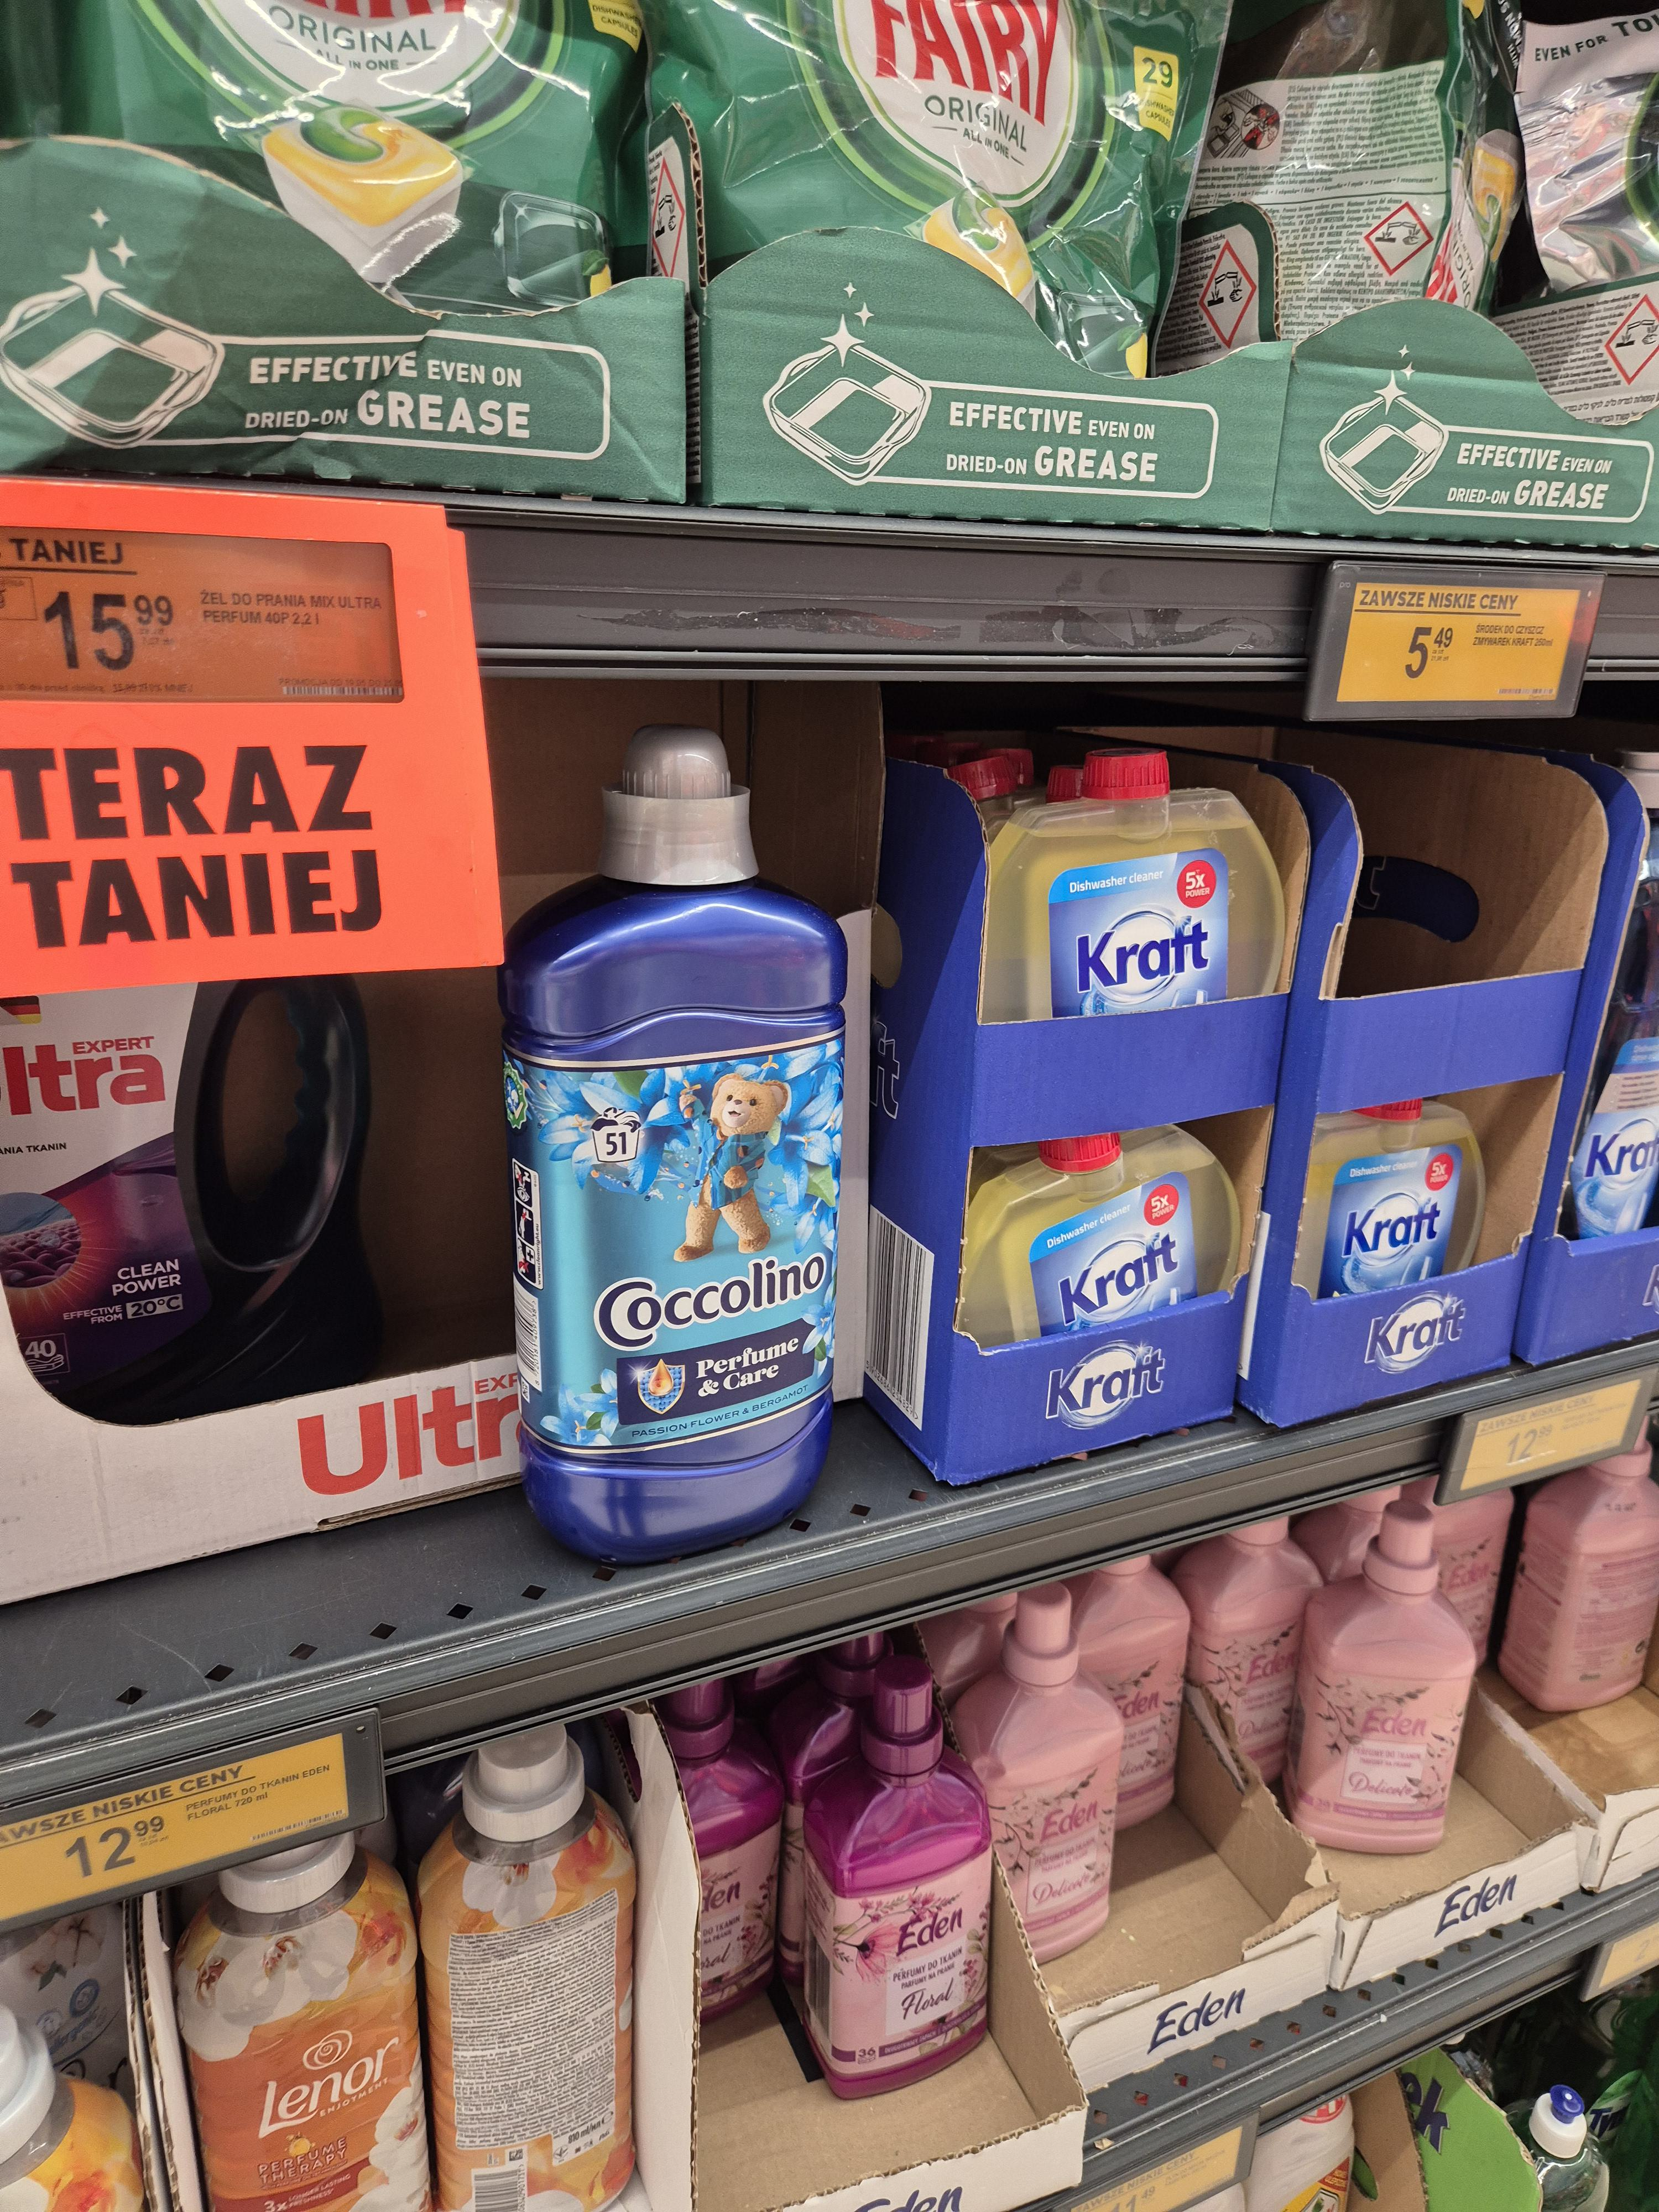cocolino: (505, 714, 852, 1576)
